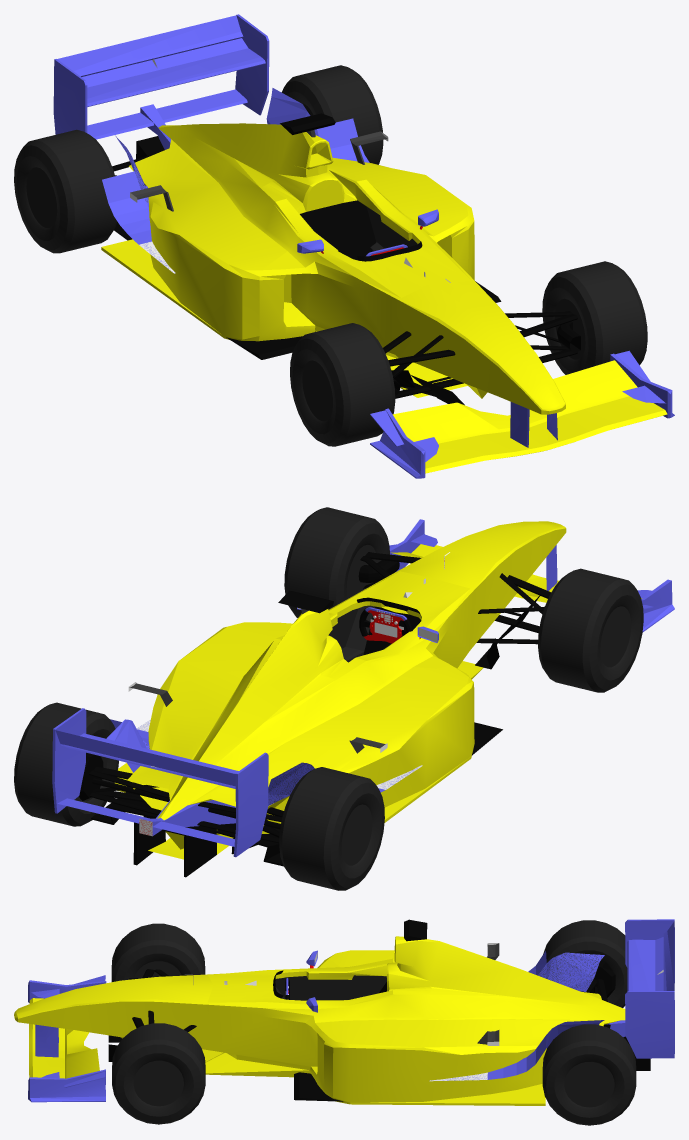
The picture shows the model from 3 angles, top to bottom: view 1: azimuth 30°, elevation 25°; view 2: azimuth 150°, elevation 25°; view 3: azimuth 270°, elevation 25°; orthographic projection. The views are drawn at different scales.
Visible parts, largest first — view 1: SketchUp.027, SketchUp, SketchUp.136, SketchUp.132, SketchUp.025, SketchUp.007, SketchUp.009, SketchUp.134, SketchUp.011, SketchUp.109, SketchUp.016, SketchUp.118 (+13 smaller); view 2: SketchUp.027, SketchUp, SketchUp.136, SketchUp.132, SketchUp.134, SketchUp.015, SketchUp.012, SketchUp.011, SketchUp.057, SketchUp.016, SketchUp.096, SketchUp.009 (+16 smaller); view 3: SketchUp.027, SketchUp.134, SketchUp.132, SketchUp, SketchUp.012, SketchUp.136, SketchUp.098, SketchUp.009, SketchUp.024, SketchUp.102, SketchUp.025, SketchUp.007 (+9 smaller).
Boxes of the visible parts, x1,y1,x2,y2 form: SketchUp.027: (101,123,565,414); SketchUp: (290,323,395,446); SketchUp.136: (14,129,117,253); SketchUp.132: (542,261,647,374); SketchUp.025: (392,360,637,443); SketchUp.007: (425,396,667,473); SketchUp.009: (82,38,265,106); SketchUp.134: (281,65,383,164); SketchUp.011: (57,15,243,76); SketchUp.109: (300,200,376,260); SketchUp.016: (87,89,247,139); SketchUp.118: (102,171,151,244); SketchUp.027: (115,521,566,859); SketchUp: (538,568,643,692); SketchUp.136: (279,767,384,890); SketchUp.132: (284,507,389,617); SketchUp.134: (14,702,118,826); SketchUp.015: (233,752,268,857); SketchUp.012: (52,708,86,813); SketchUp.011: (55,730,235,786); SketchUp.057: (133,818,235,877); SketchUp.016: (57,798,234,846); SketchUp.096: (328,605,374,662); SketchUp.009: (61,733,238,788); SketchUp.027: (14,936,625,1105); SketchUp.134: (542,1024,636,1125); SketchUp.132: (112,1023,205,1124); SketchUp: (111,923,205,981); SketchUp.012: (625,991,674,1058); SketchUp.136: (543,920,627,1007); SketchUp.098: (275,975,386,1000); SketchUp.009: (627,937,663,991); SketchUp.024: (28,1069,105,1102); SketchUp.102: (538,952,604,991); SketchUp.025: (65,1028,99,1078); SketchUp.007: (29,998,64,1078).
Size of the model in its own units: 0.4016 by 0.2049 by 0.8888.
